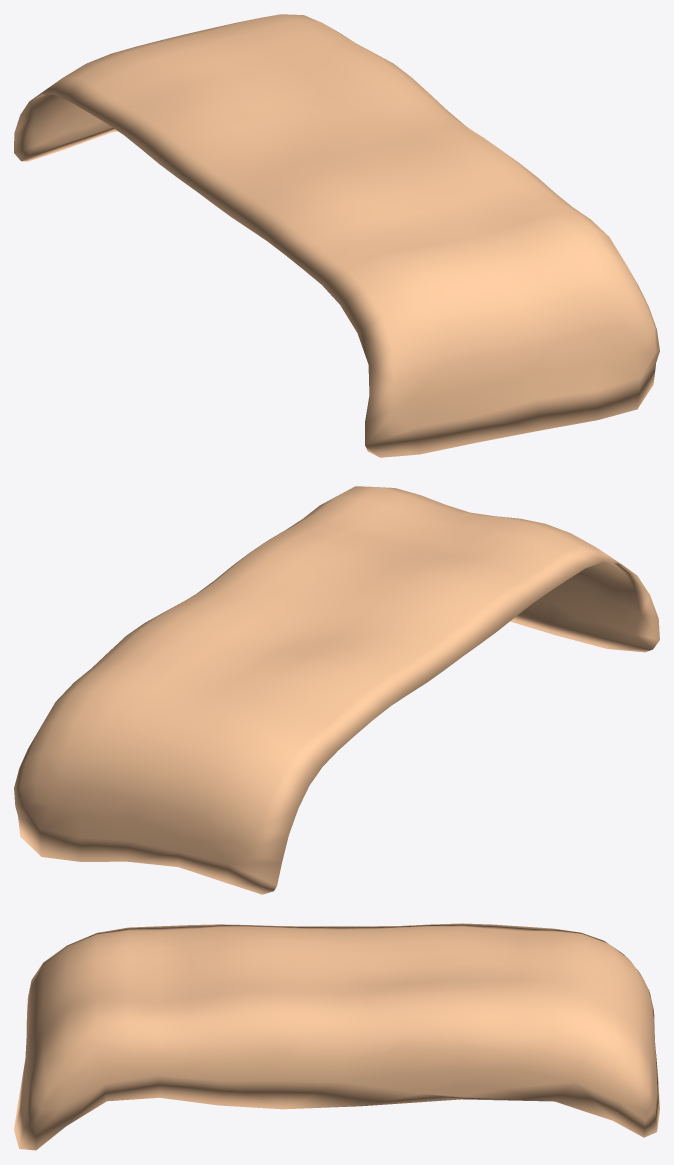
File: Bedspread.fbx
3 renders of one model, top to bottom at view 1: azimuth 30°, elevation 25°; view 2: azimuth 150°, elevation 25°; view 3: azimuth 270°, elevation 25°, orthographic. The views are drawn at different scales.
Visible parts, largest first — view 1: Bedspread; view 2: Bedspread; view 3: Bedspread.
Boxes of the visible parts, <box> form: Bedspread: <box>14,14,659,457</box>; Bedspread: <box>14,486,659,894</box>; Bedspread: <box>14,923,659,1150</box>.
Bounding box in the file's own units: 81.18 × 42.72 × 177.
